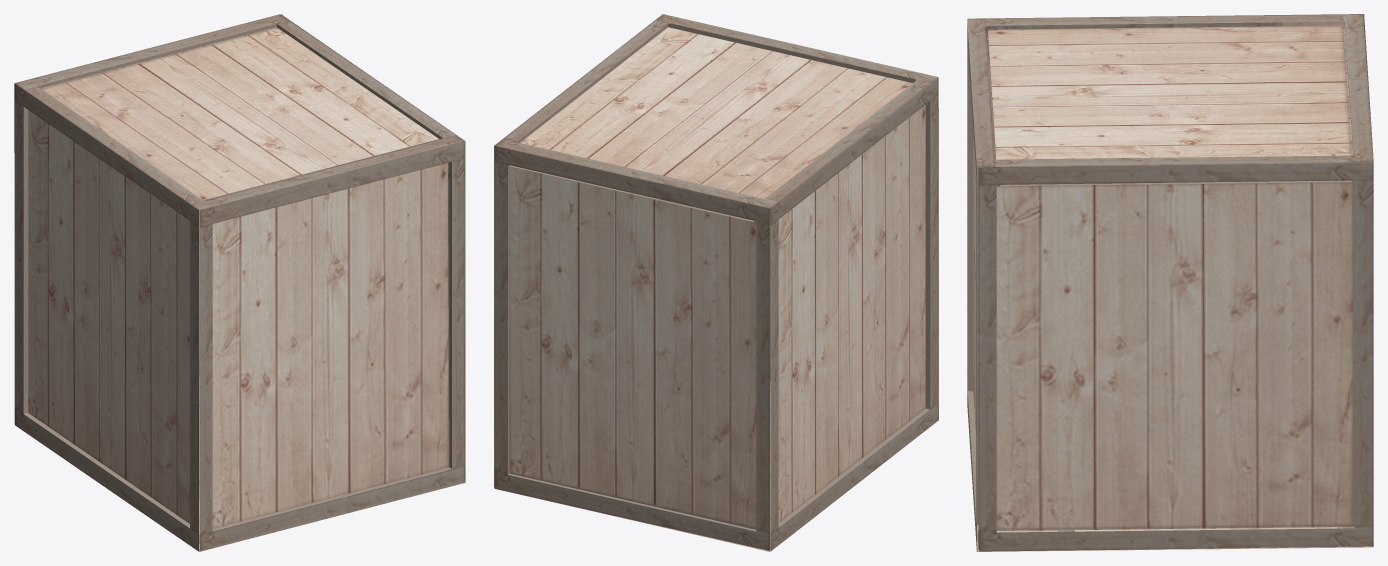
The model's file is WarehouseCrate.fbx.
The picture shows the model from 3 angles, left to right: view 1: azimuth 30°, elevation 25°; view 2: azimuth 150°, elevation 25°; view 3: azimuth 270°, elevation 25°; orthographic projection. The views are drawn at different scales.
Parts seen in each view (by area): view 1: Crate.002; view 2: Crate.002; view 3: Crate.002.
Boxes of the visible parts, box(x1,y1,x2,y2) form: Crate.002: box(14, 14, 465, 551); Crate.002: box(494, 14, 938, 551); Crate.002: box(967, 14, 1373, 551).
Bounding box in the file's own units: 117 × 137 × 132.
